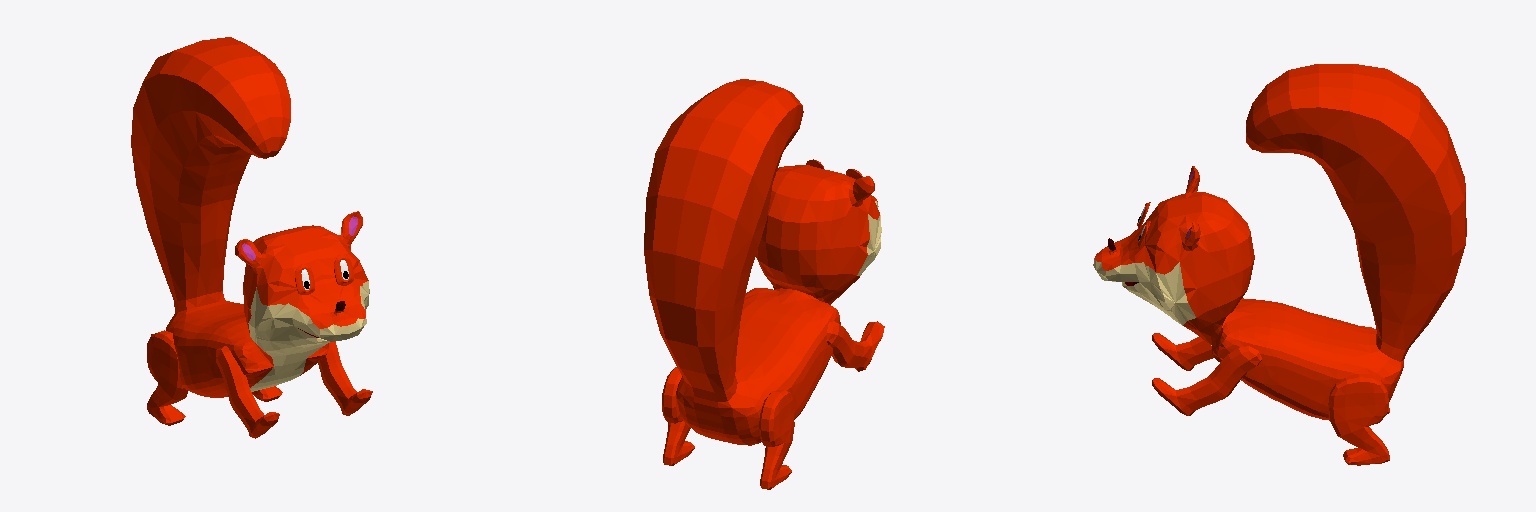
File: swn.obj
3 views of the same model, side by side, from view 1: azimuth 30°, elevation 25°; view 2: azimuth 150°, elevation 25°; view 3: azimuth 270°, elevation 25° (orthographic).
Visible parts, largest first — view 1: Cube_Material, Cube_Material.0012, Cube.004_Material.007, Cube.002_Material.006, Cube.001_Material.0062; view 2: Cube_Material, Cube.004_Material.007, Cube.002_Material.006, Cube.003_Material.0072, Cube_Material.0012; view 3: Cube_Material, Cube.003_Material.0072, Cube.001_Material.0062, Cube_Material.0012, Cube.002_Material.006.
Boxes of the visible parts, <box> form: Cube_Material: <box>131,37,368,397</box>; Cube_Material.0012: <box>248,281,369,391</box>; Cube.004_Material.007: <box>147,330,187,425</box>; Cube.002_Material.006: <box>216,346,279,438</box>; Cube.001_Material.0062: <box>318,341,372,415</box>; Cube_Material: <box>644,79,879,445</box>; Cube.004_Material.007: <box>759,390,794,489</box>; Cube.002_Material.006: <box>826,321,884,371</box>; Cube.003_Material.0072: <box>662,367,694,465</box>; Cube_Material.0012: <box>857,201,881,275</box>; Cube_Material: <box>1095,64,1466,420</box>; Cube.003_Material.0072: <box>1328,374,1389,465</box>; Cube.001_Material.0062: <box>1152,346,1261,415</box>; Cube_Material.0012: <box>1093,258,1211,345</box>; Cube.002_Material.006: <box>1152,333,1213,370</box>.
Size of the model in its own units: 2.46 by 6.81 by 6.29.